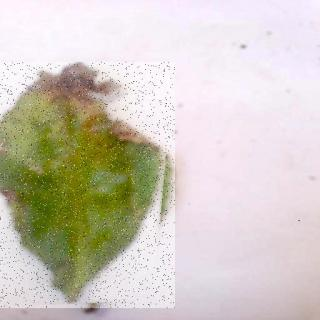Brown Blight: (2, 63, 177, 309)
